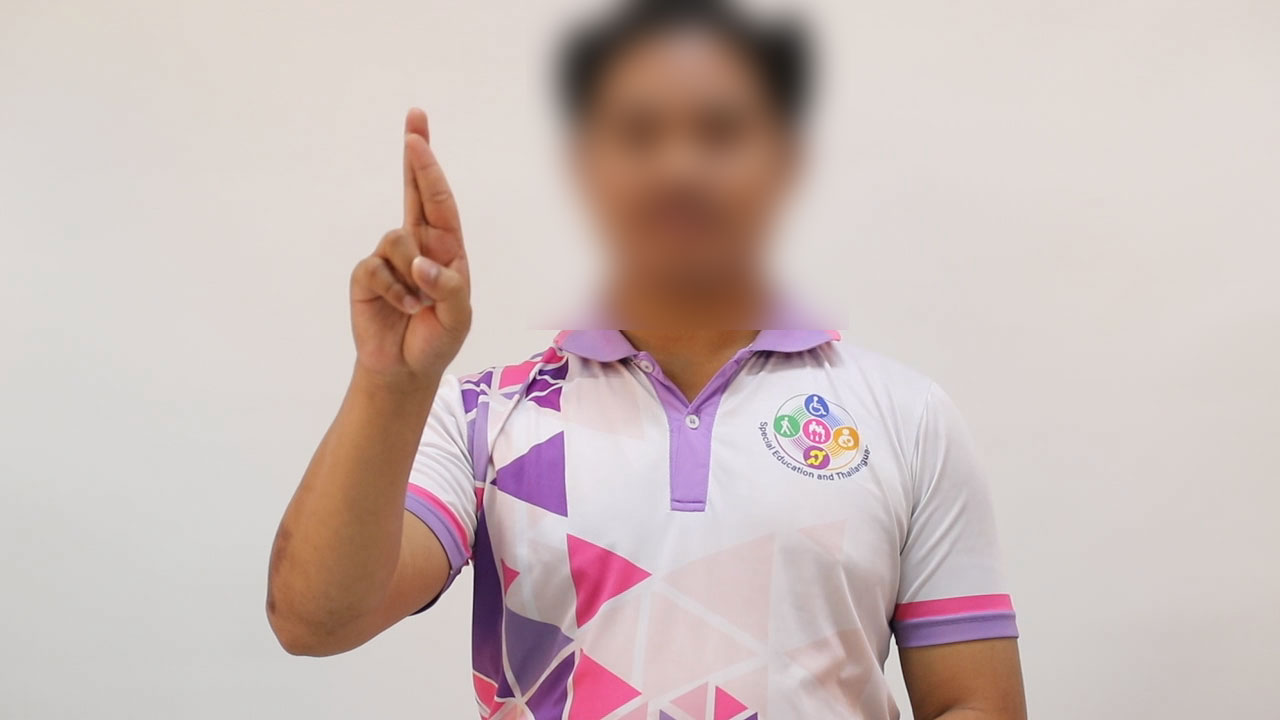rao: (312, 103, 479, 375)
